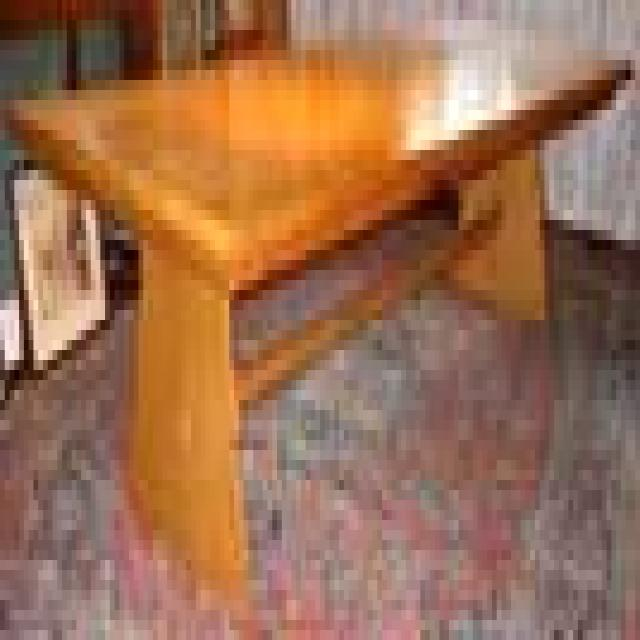table: (5, 36, 638, 602)
